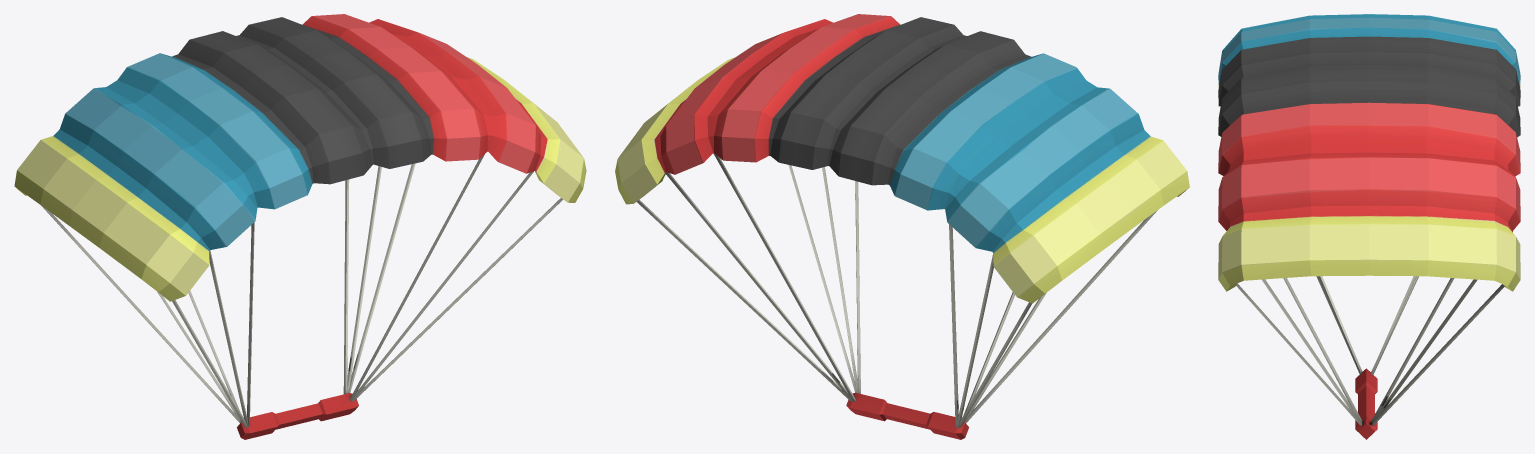
File: parachute.glb
The picture shows the model from 3 angles, left to right: view 1: azimuth 30°, elevation 25°; view 2: azimuth 150°, elevation 25°; view 3: azimuth 270°, elevation 25°; orthographic projection.
Visible parts, largest first — view 1: Parachute_mesh; view 2: Parachute_mesh; view 3: Parachute_mesh.
Part boxes in pixels (x1=…): Parachute_mesh: x1=14, y1=14, x2=586, y2=439; Parachute_mesh: x1=615, y1=14, x2=1189, y2=439; Parachute_mesh: x1=1218, y1=14, x2=1520, y2=439.
Bounding box in the file's own units: 9.11 × 6.83 × 5.22.
1 material, 1 textured.
